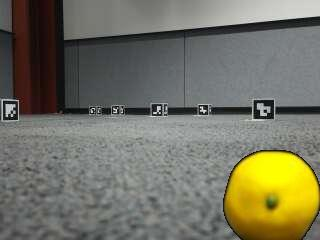lemon: (225, 149, 320, 239)
